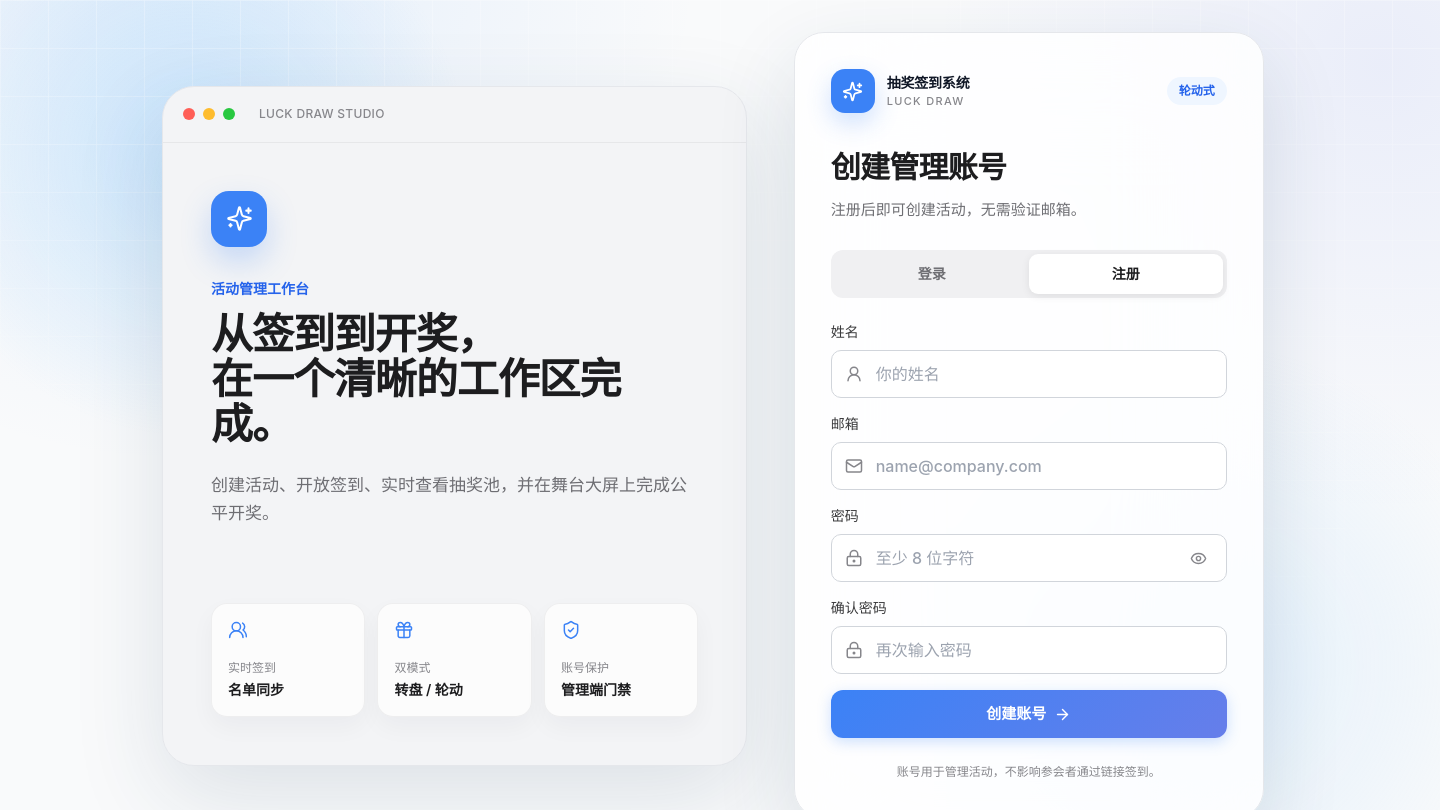
Test: LoginPage › requires complete registration details and an eight character password
This screenshot has width=1440, height=810.
Click the button "创建账号".
click(1029, 714)  # box x1=831 y1=690 x2=1227 y2=738
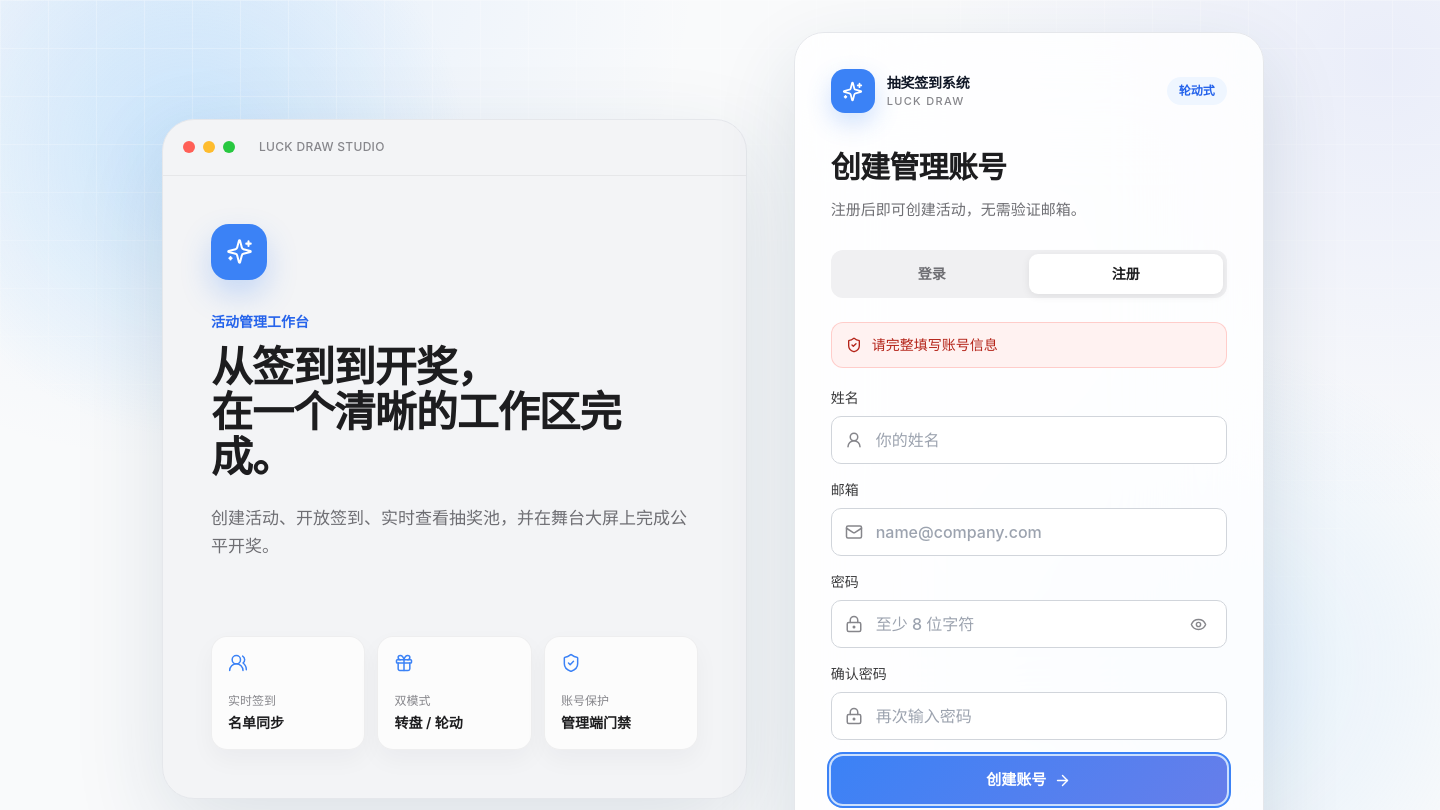
Result: the text "请完整填写账号信息" is shown at x1=872 y1=335 x2=998 y2=355
Type "小明" into the field labelled "姓名".
click(1029, 440); type("小明")  # box x1=831 y1=416 x2=1227 y2=464
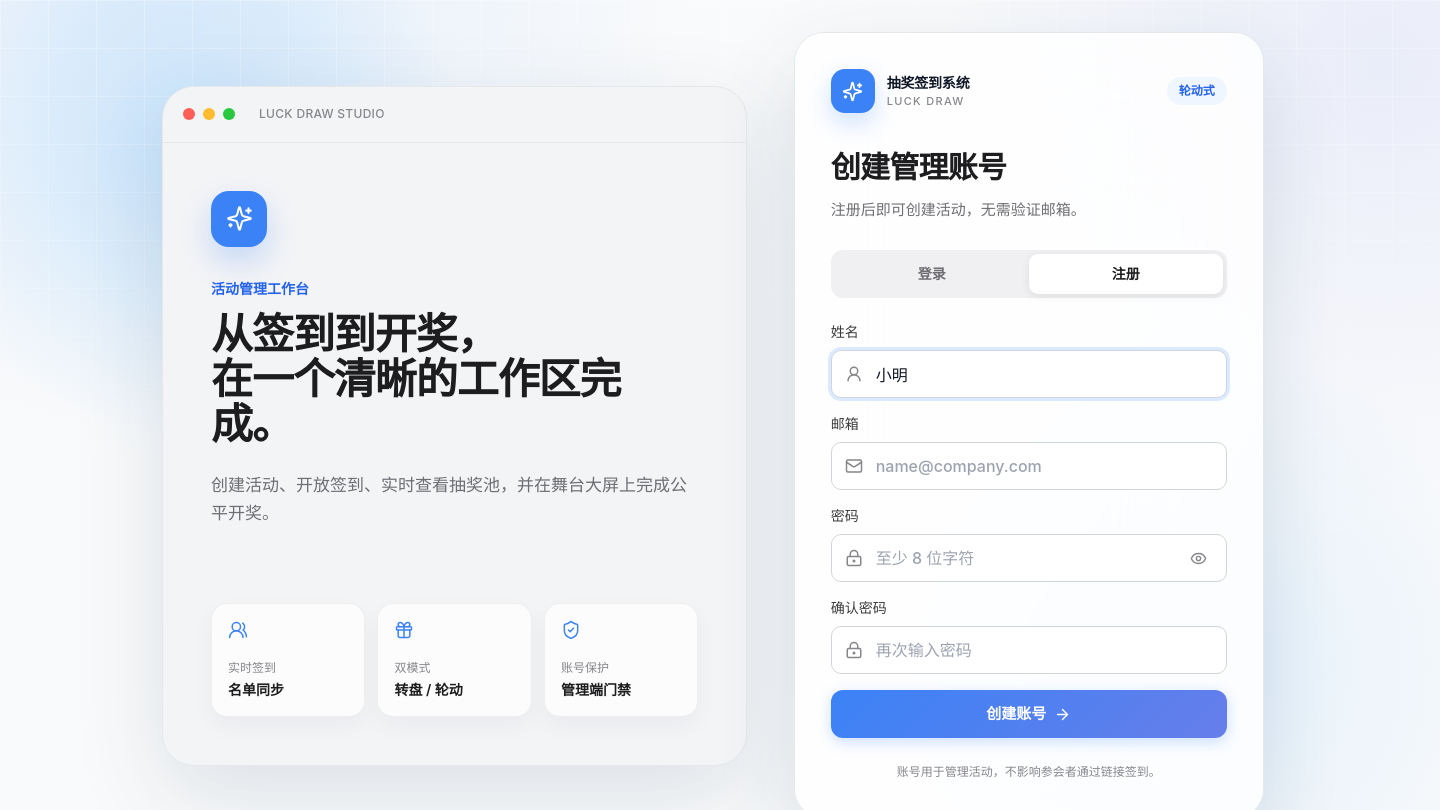
Type "user@example.com" into the field labelled "邮箱".
click(1029, 466); type("user@example.com")  # box x1=831 y1=442 x2=1227 y2=490
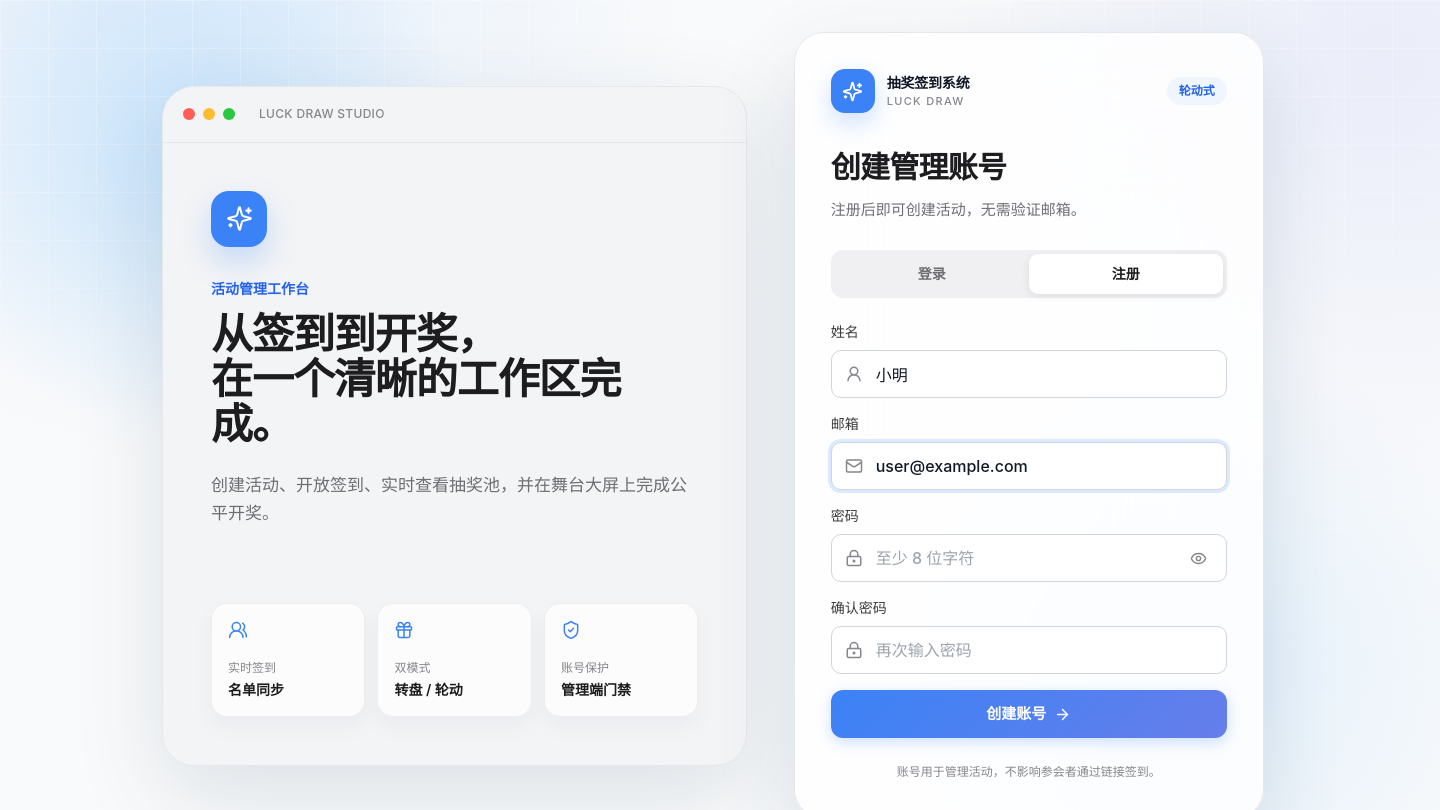
Type "short" into the password field labelled "密码".
click(1029, 558); type("short")  # box x1=831 y1=534 x2=1227 y2=582
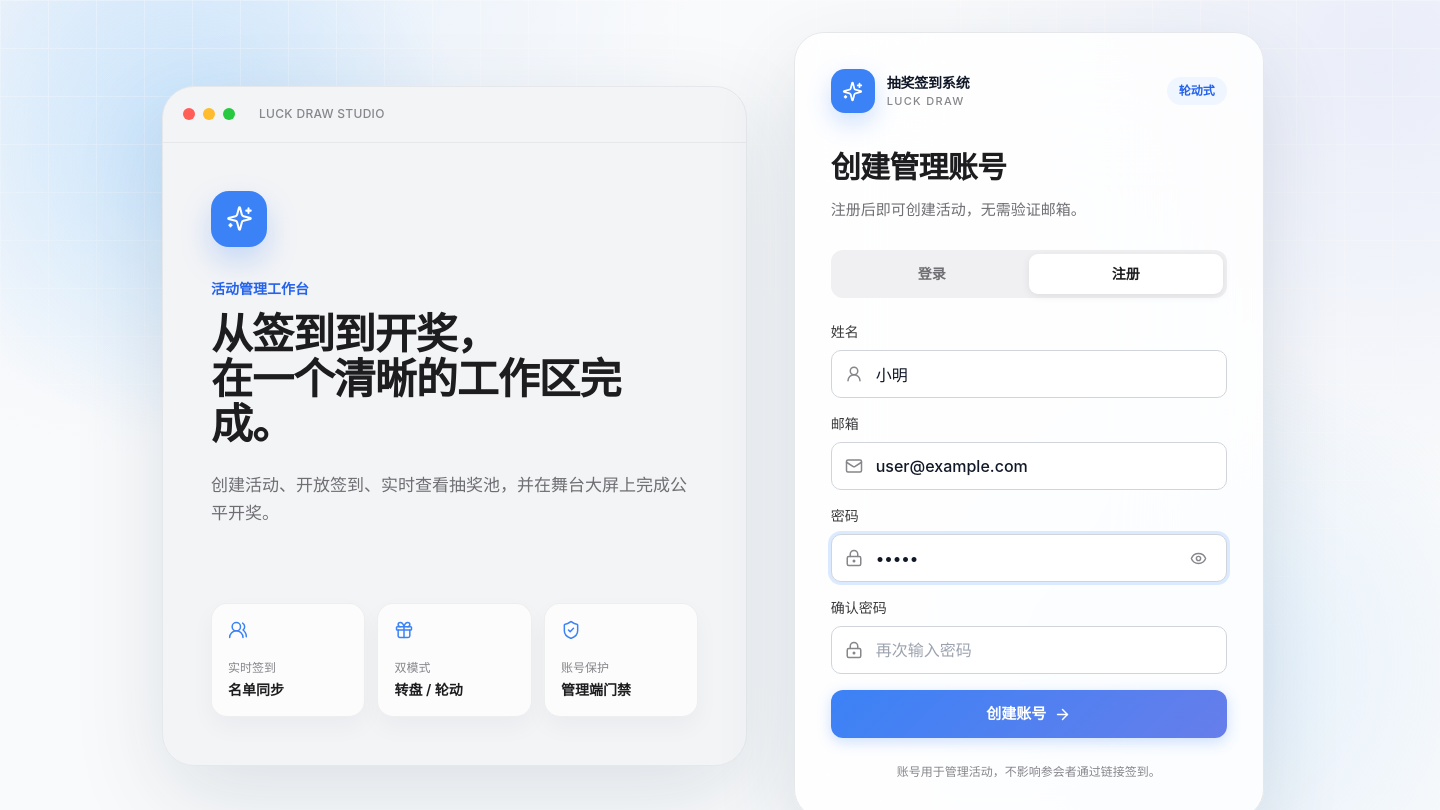
Type "short" into the password field labelled "确认密码".
click(1029, 650); type("short")  # box x1=831 y1=626 x2=1227 y2=674
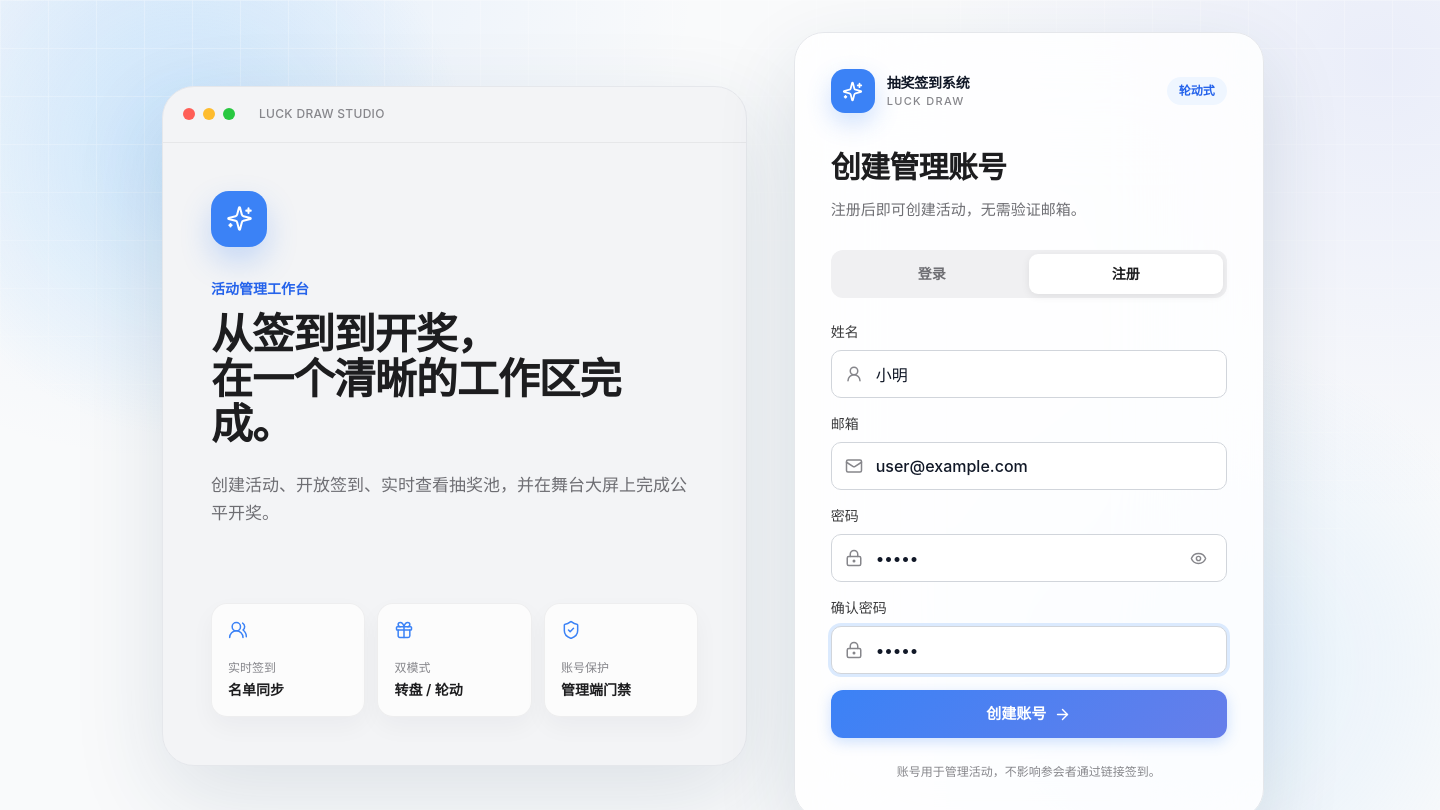
Click the button "创建账号".
click(1029, 714)  # box x1=831 y1=690 x2=1227 y2=738
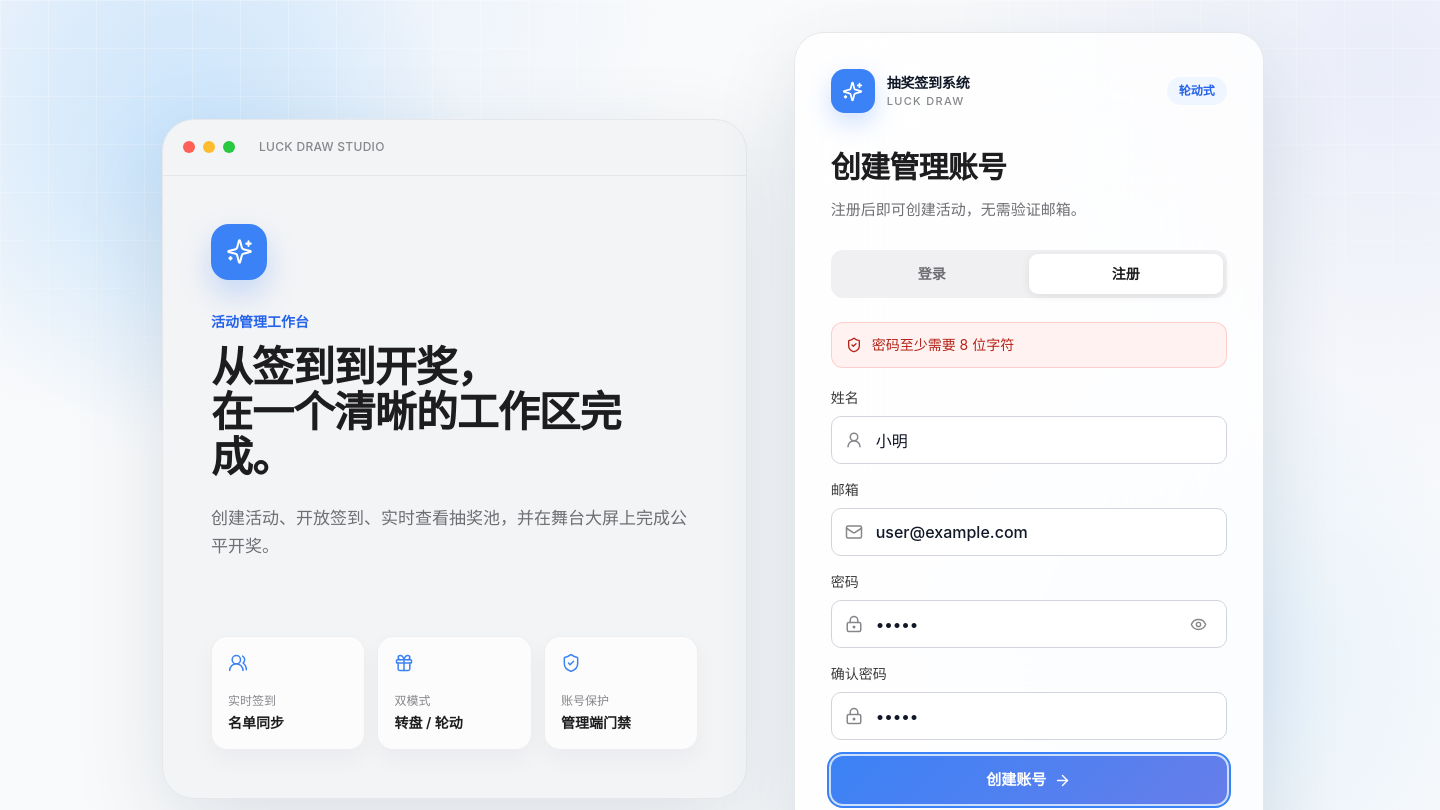
Result: the text "密码至少需要 8 位字符" is shown at x1=872 y1=335 x2=1014 y2=355
